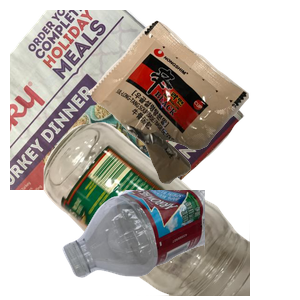glass: (41, 120, 281, 300)
paper: (10, 10, 247, 190)
plastic: (60, 190, 300, 280)
trash: (86, 18, 300, 194)
